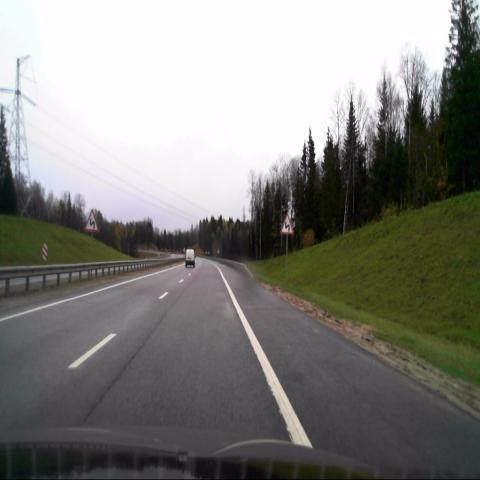1_12_2: (84, 209, 98, 232), (280, 213, 294, 235)
